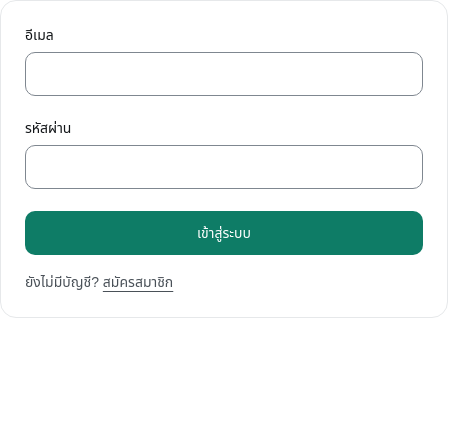
it: SignInForm › maps 0 NETWORK_ERROR to Thai copy
This screenshot has width=465, height=435.
Type "a@example.com" into the field labelled "อีเมล" at (224, 74), box x1=25 y1=52 x2=423 y2=96
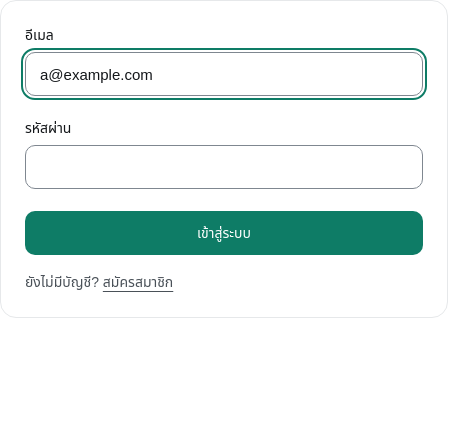
Type "secret" into the password field labelled "รหัสผ่าน" at (224, 167), box x1=25 y1=145 x2=423 y2=189
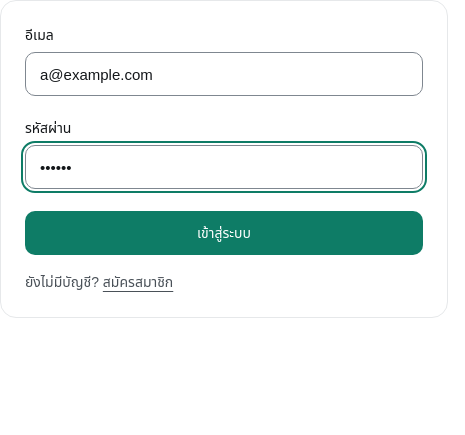
Click the button "เข้าสู่ระบบ" at (224, 233), box x1=25 y1=211 x2=423 y2=255
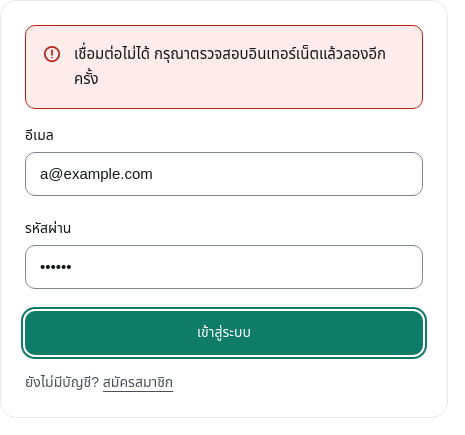
Result: the text "เชื่อมต่อไม่ได้ กรุณาตรวจสอบอินเทอร์เน็ตแล้วลองอีกครั้ง" is shown at x1=74 y1=42 x2=406 y2=92
